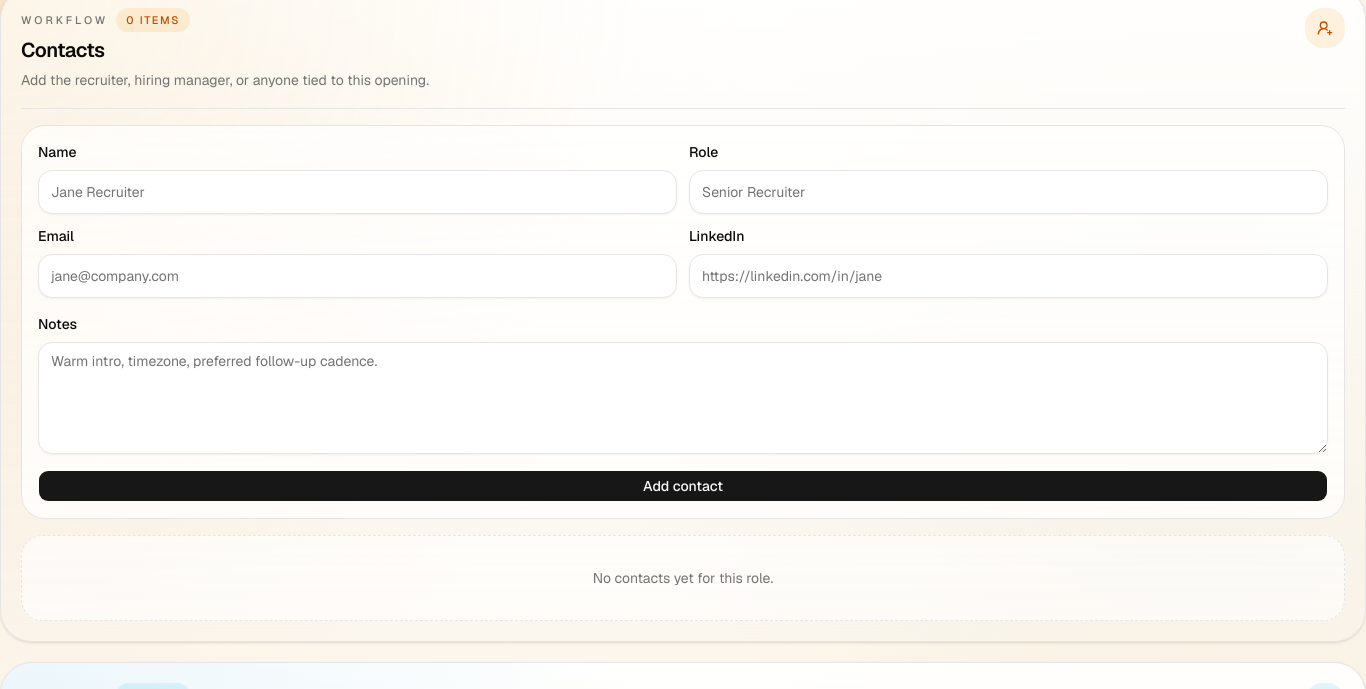
Test: JobDetailWorkflow › shows client-side validation for contact, interview, and task forms
Click the button "Add contact": (683, 486) [38,470,1328,502]
(page scrolled)
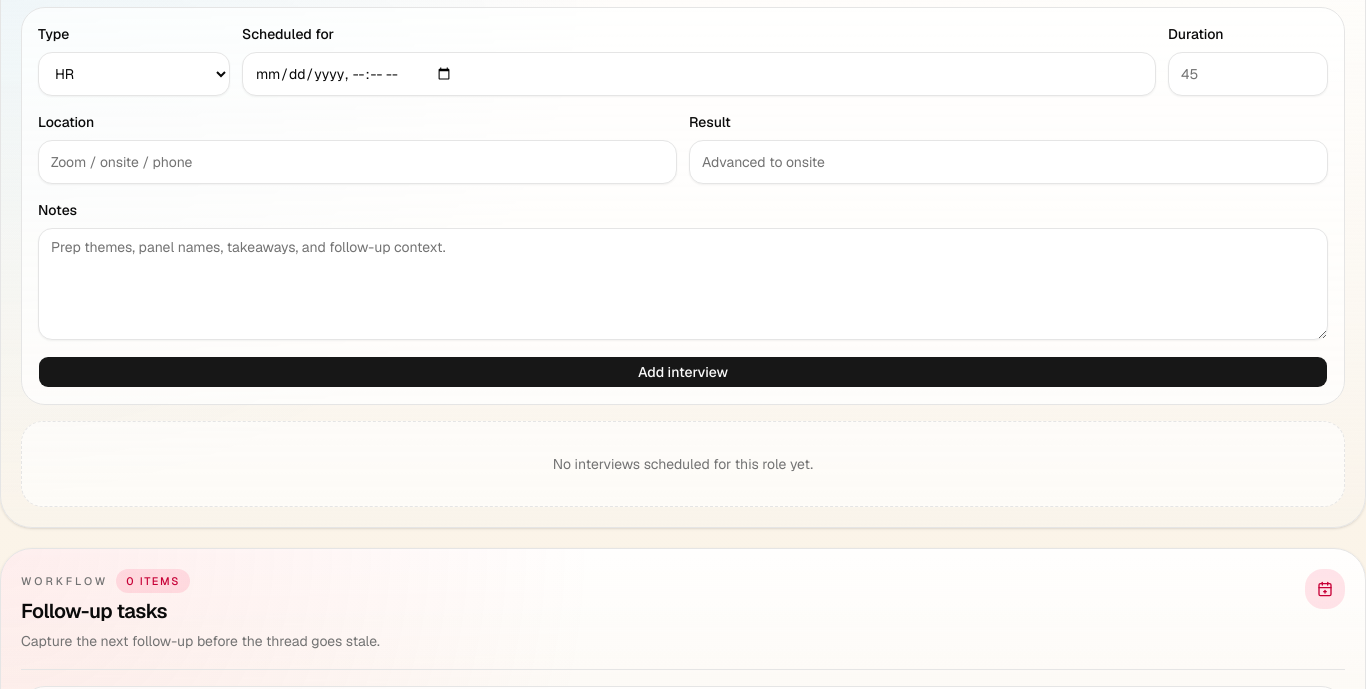
Click the button "Add interview": (683, 372) [38,356,1328,388]
(page scrolled)
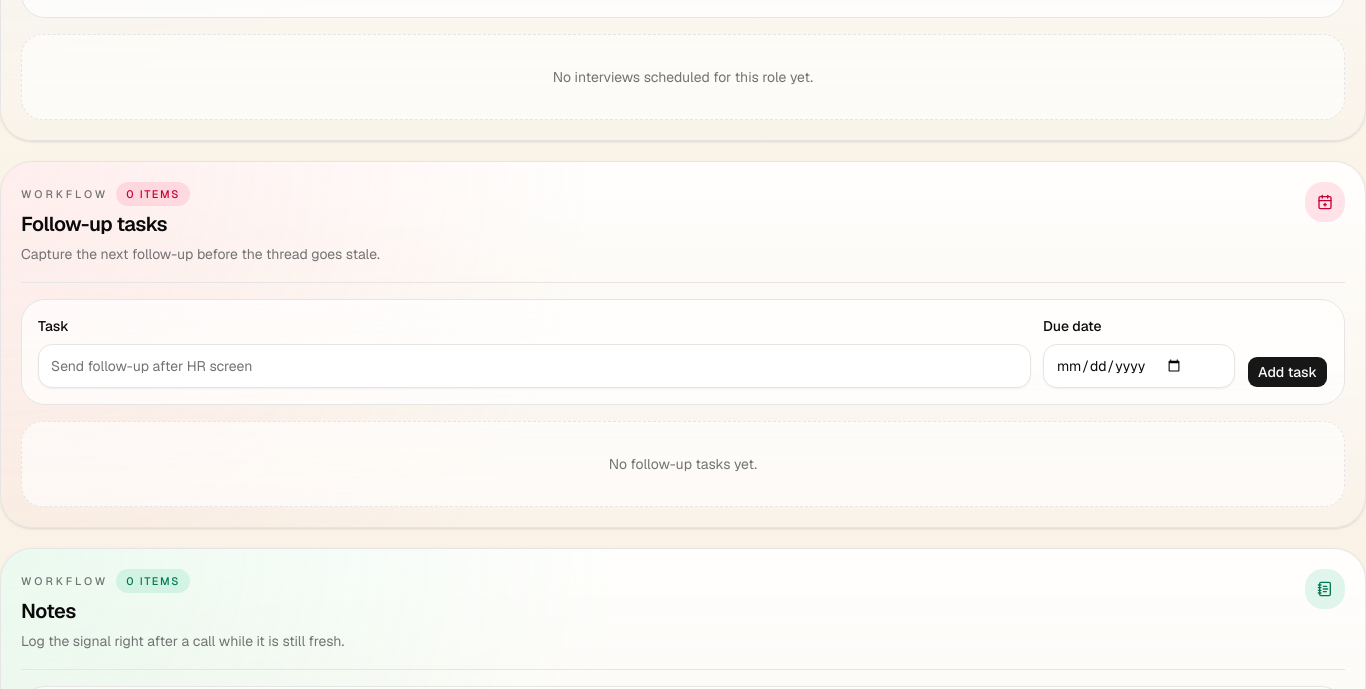
Click the button "Add task": (1288, 372) [1247,356,1328,388]
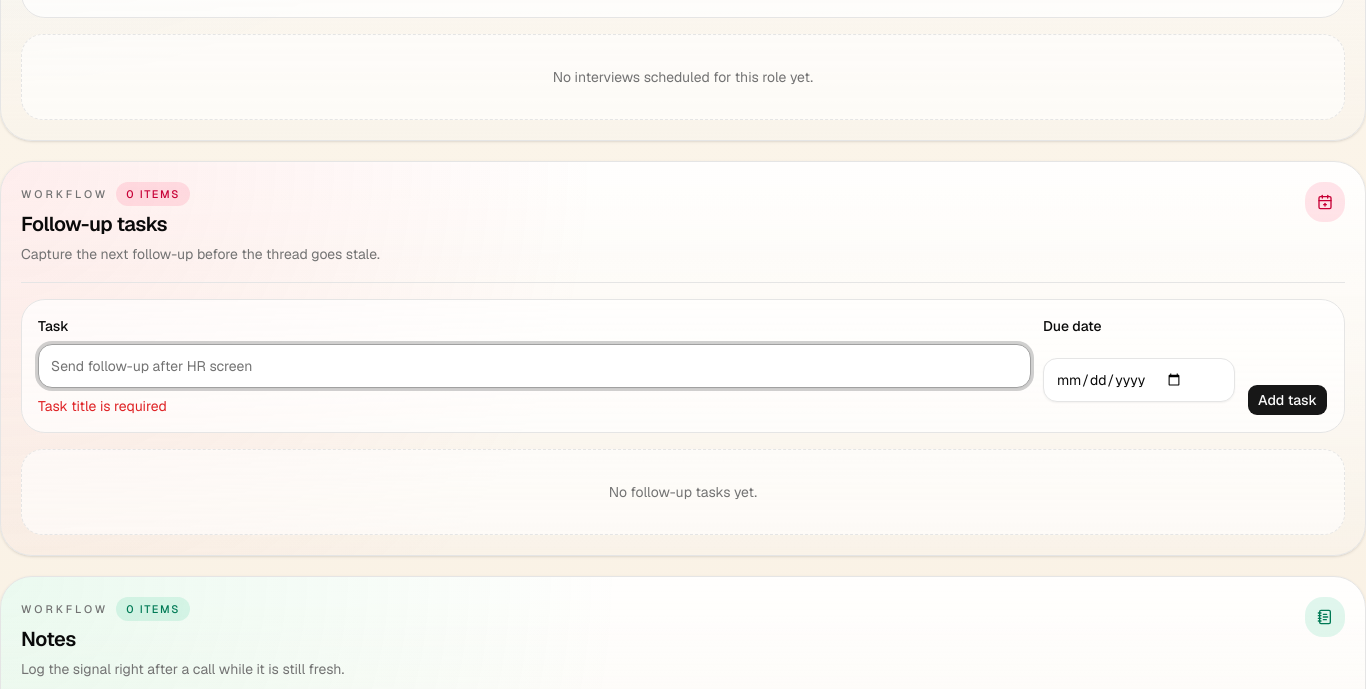
Now the text "Task title is required" is shown, box [38,397,167,415]
